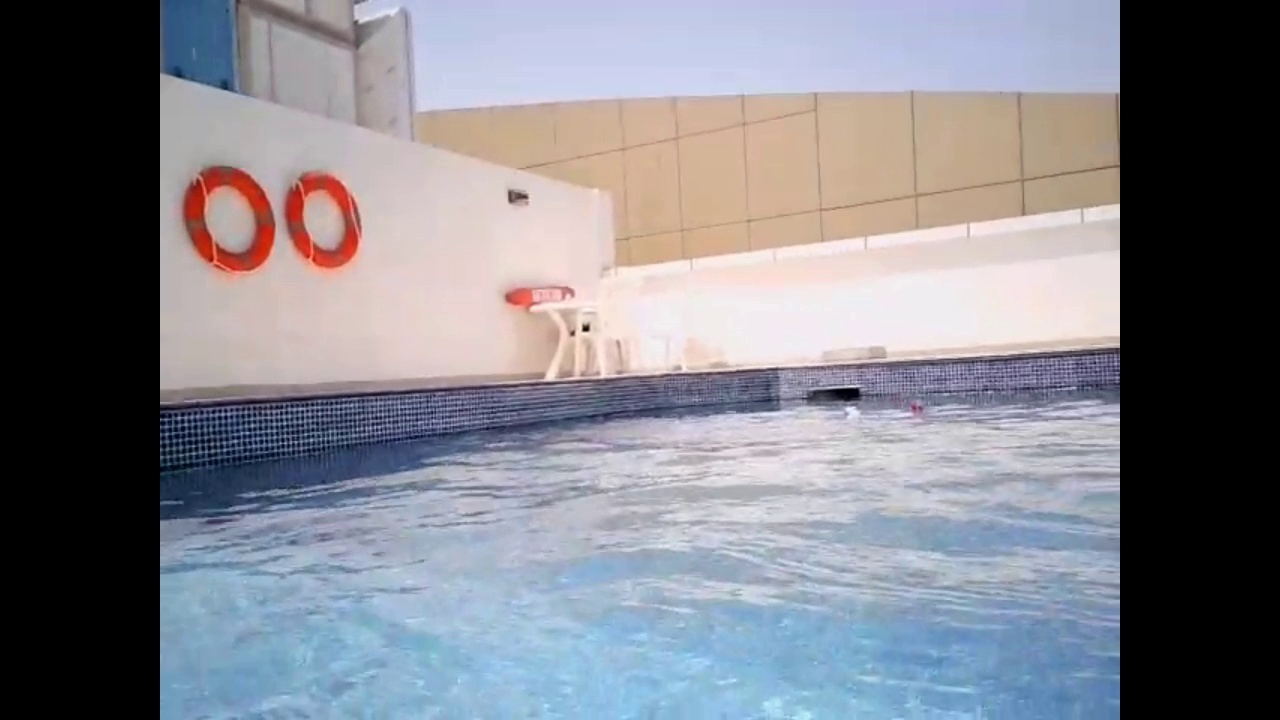debris: (907, 399, 926, 416), (839, 403, 858, 419)
